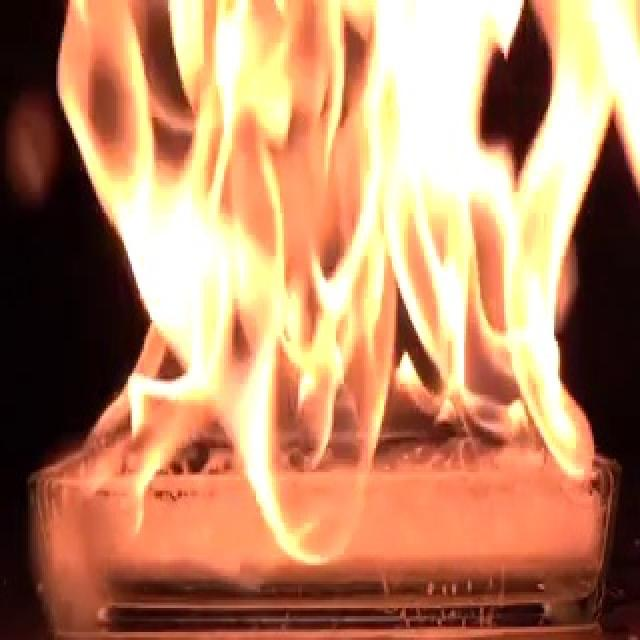fire: (52, 0, 640, 570)
